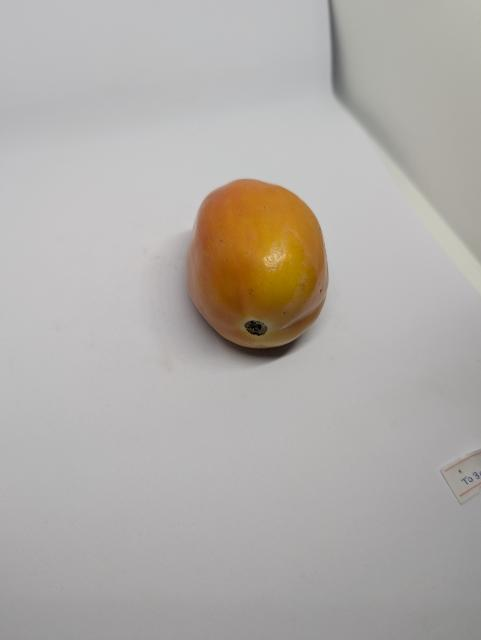turning: (176, 165, 336, 359)
